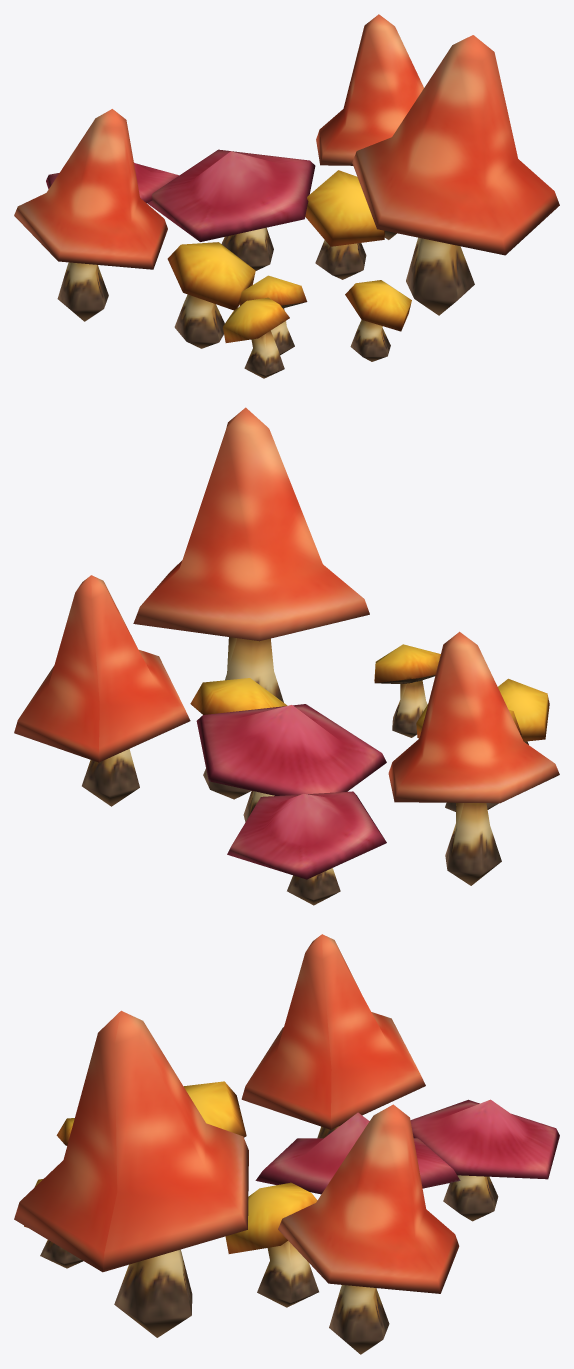
The model's file is n_mushroom01.glb.
The picture shows the model from 3 angles, top to bottom: view 1: azimuth 30°, elevation 25°; view 2: azimuth 150°, elevation 25°; view 3: azimuth 270°, elevation 25°; orthographic projection. The views are drawn at different scales.
Parts seen in each view (by area): view 1: n_mushroom01; view 2: n_mushroom01; view 3: n_mushroom01.
Part boxes in pixels (x1=…): n_mushroom01: x1=14, y1=14, x2=559, y2=378; n_mushroom01: x1=14, y1=407, x2=559, y2=905; n_mushroom01: x1=14, y1=934, x2=559, y2=1354.
Bounding box in the file's own units: 1.2 × 0.7654 × 1.12.
Materials: 1 (1 with a texture image).
